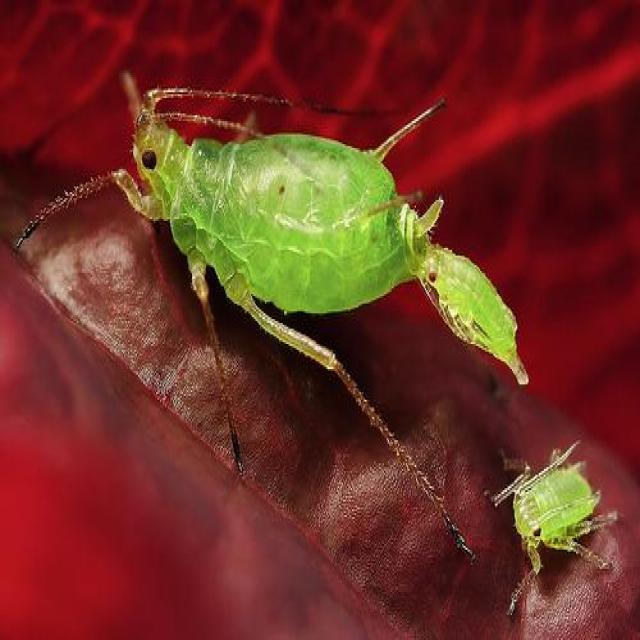Aphids: (32, 48, 457, 538), (442, 394, 620, 623)
